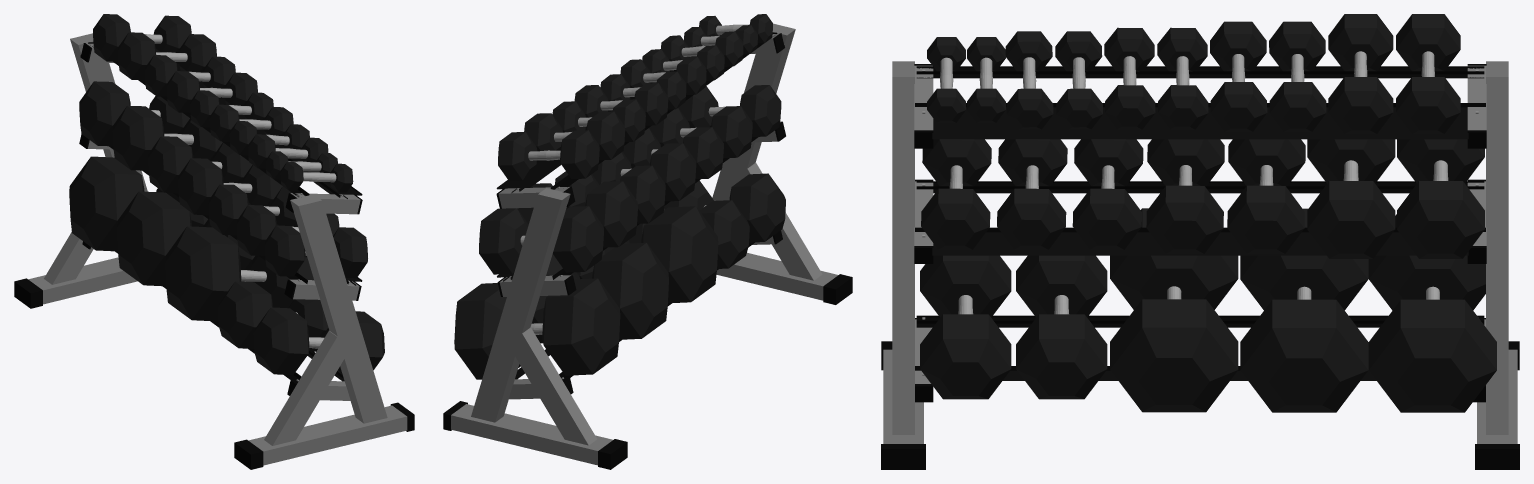
The model's file is HexDumbbellSet.fbx.
3 renders of one model, left to right at view 1: azimuth 30°, elevation 25°; view 2: azimuth 150°, elevation 25°; view 3: azimuth 270°, elevation 25°, orthographic. The views are drawn at different scales.
Parts seen in each view (by area): view 1: HexDubbellSet; view 2: HexDubbellSet; view 3: HexDubbellSet.
Boxes of the visible parts, x1,y1,x2,y2 form: HexDubbellSet: (14,14,414,469); HexDubbellSet: (443,14,852,469); HexDubbellSet: (881,14,1519,469).
Size of the model in its own units: 48.56 by 75.49 by 112.
